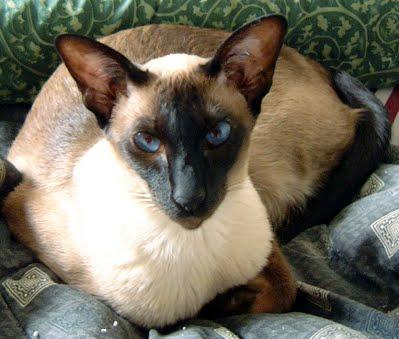siamese: (55, 14, 298, 247)
